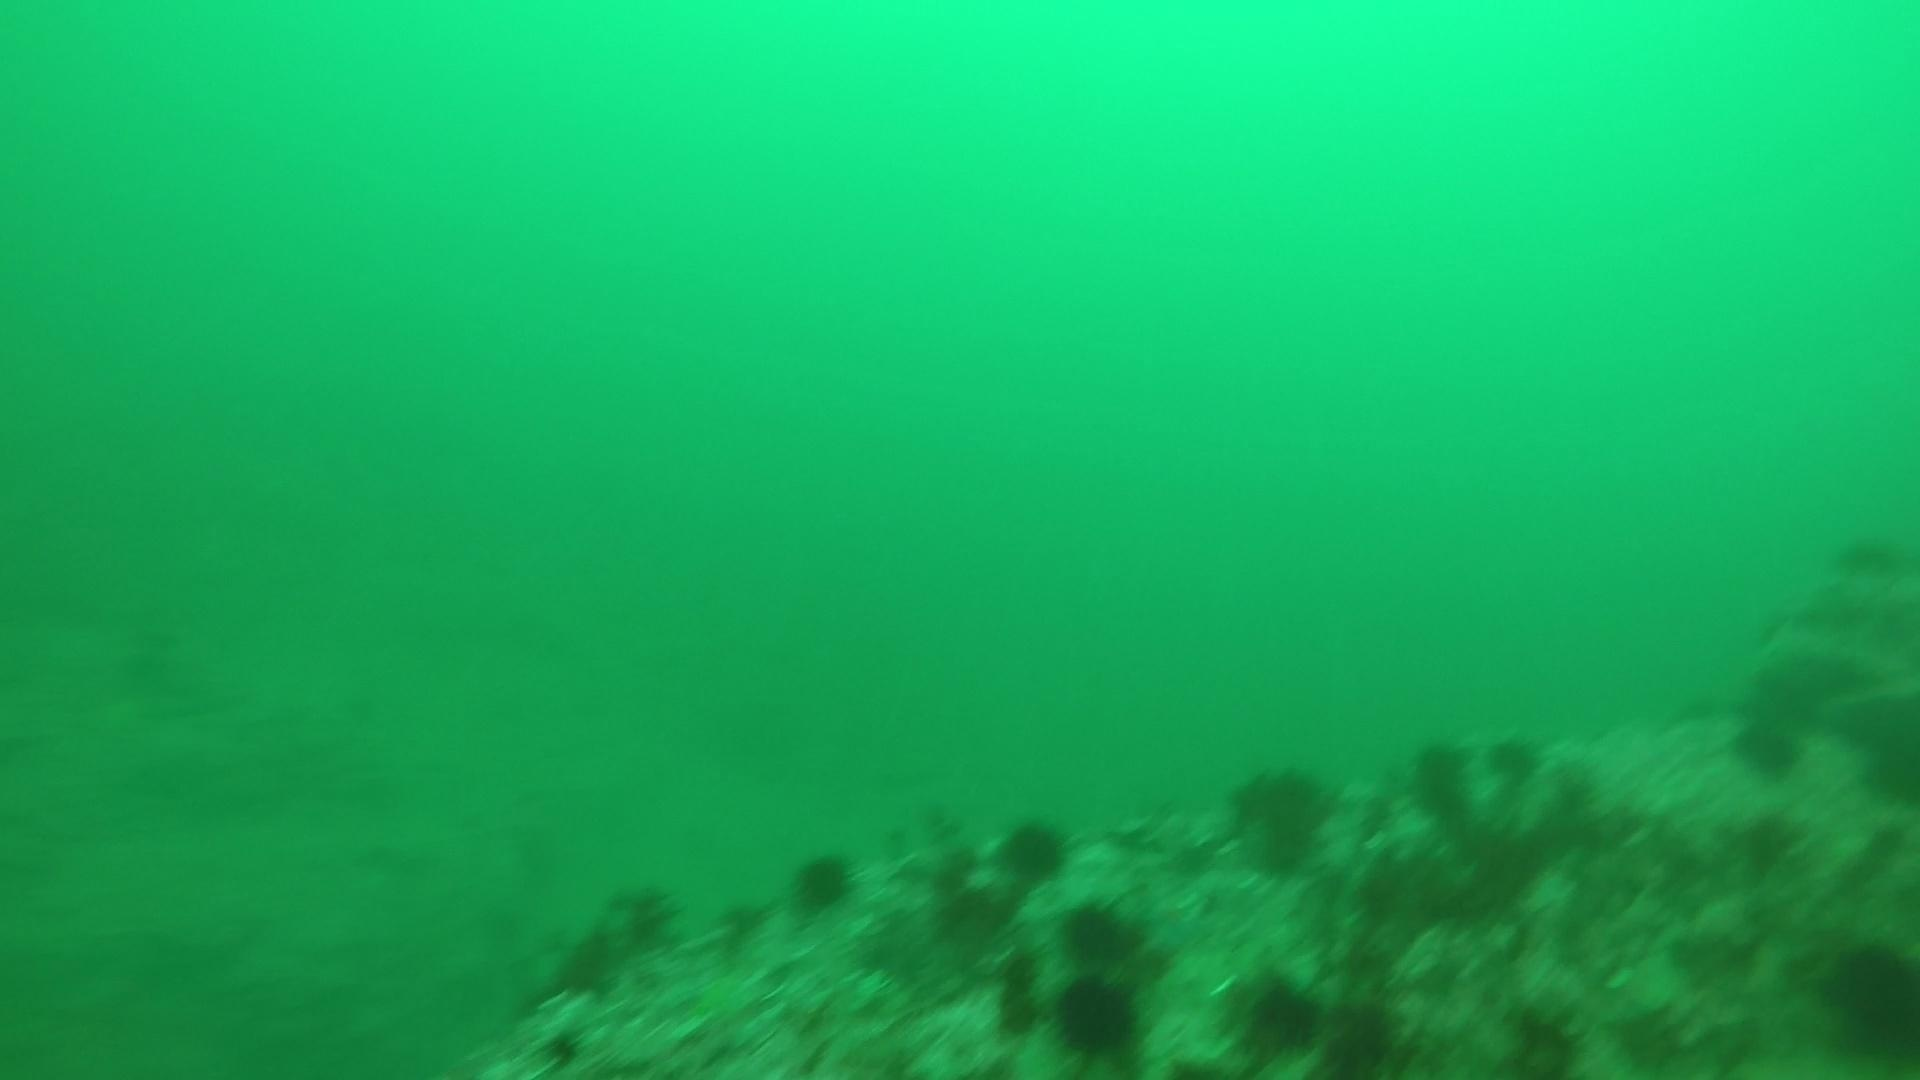echinus: (1818, 934, 1920, 1064), (1218, 965, 1332, 1065), (1044, 969, 1149, 1064), (1054, 894, 1149, 971), (990, 812, 1075, 887), (605, 878, 683, 951), (1730, 712, 1808, 783), (785, 845, 861, 916), (1404, 735, 1472, 789), (1484, 731, 1545, 789)
